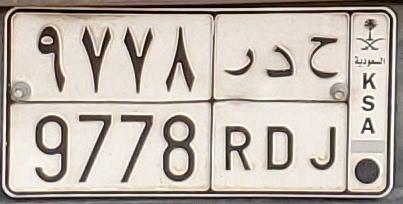7: (74, 25, 115, 183), (120, 23, 154, 184)
8: (161, 25, 204, 182)
9: (32, 25, 70, 184)
D: (264, 44, 297, 171)
J: (308, 35, 341, 172)
R: (223, 45, 258, 173)
